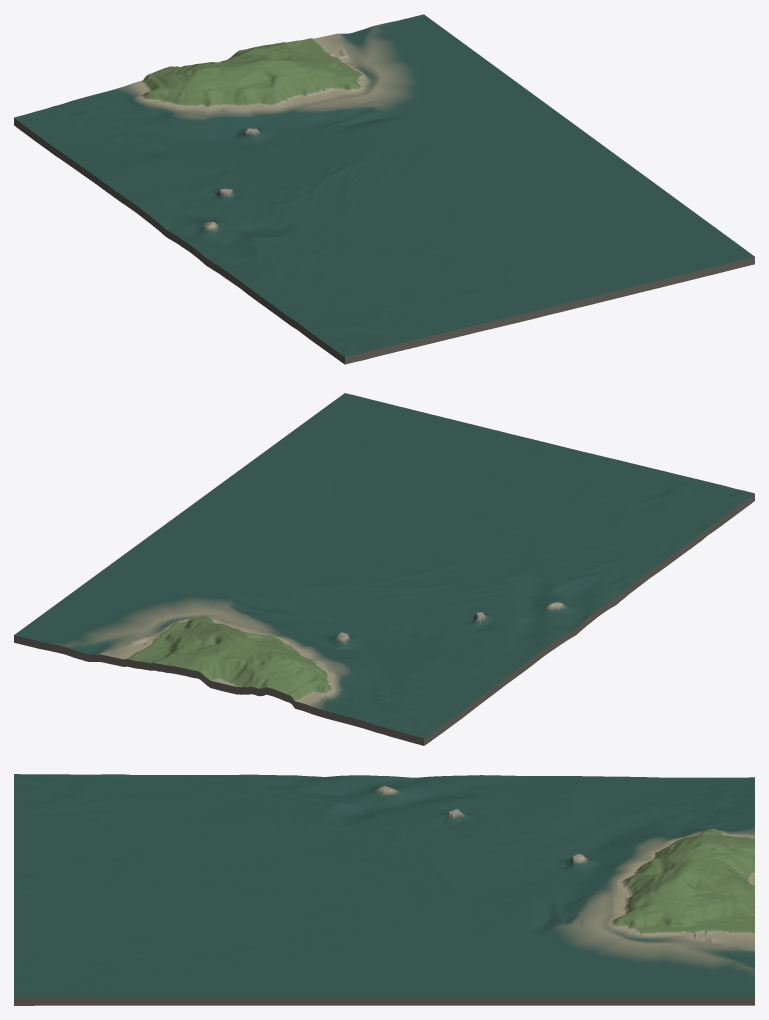
The model's file is terrain_4_2.glb.
The picture shows the model from 3 angles, top to bottom: view 1: azimuth 30°, elevation 25°; view 2: azimuth 150°, elevation 25°; view 3: azimuth 270°, elevation 25°; orthographic projection. The views are drawn at different scales.
Visible parts, largest first — view 1: terrain_4_2; view 2: terrain_4_2; view 3: terrain_4_2.
Boxes of the visible parts, bbox=[...] form: terrain_4_2: bbox=[14, 14, 754, 364]; terrain_4_2: bbox=[14, 393, 754, 745]; terrain_4_2: bbox=[14, 774, 754, 1005].
Bounding box in the file's own units: 2288 × 181 × 3200.
